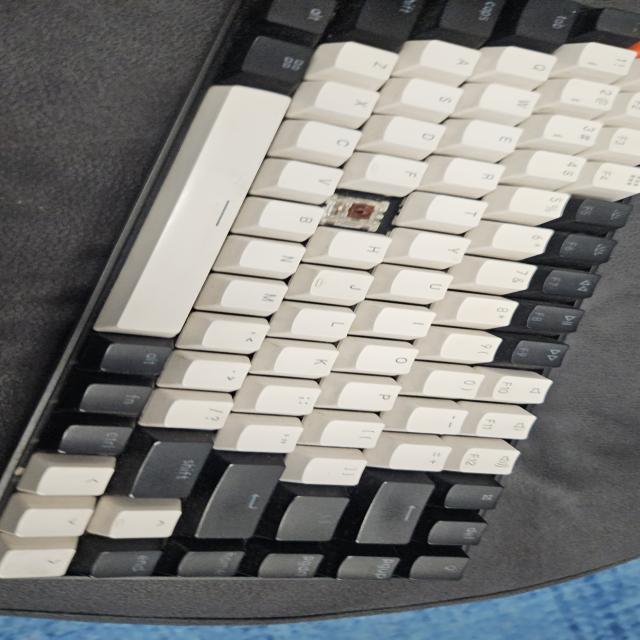C: (340, 197, 386, 228)
